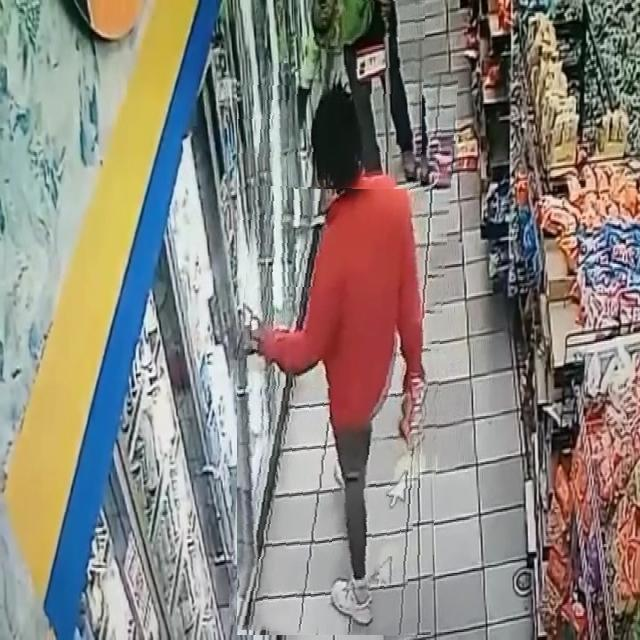Normal: (237, 65, 448, 635), (291, 0, 424, 187)
